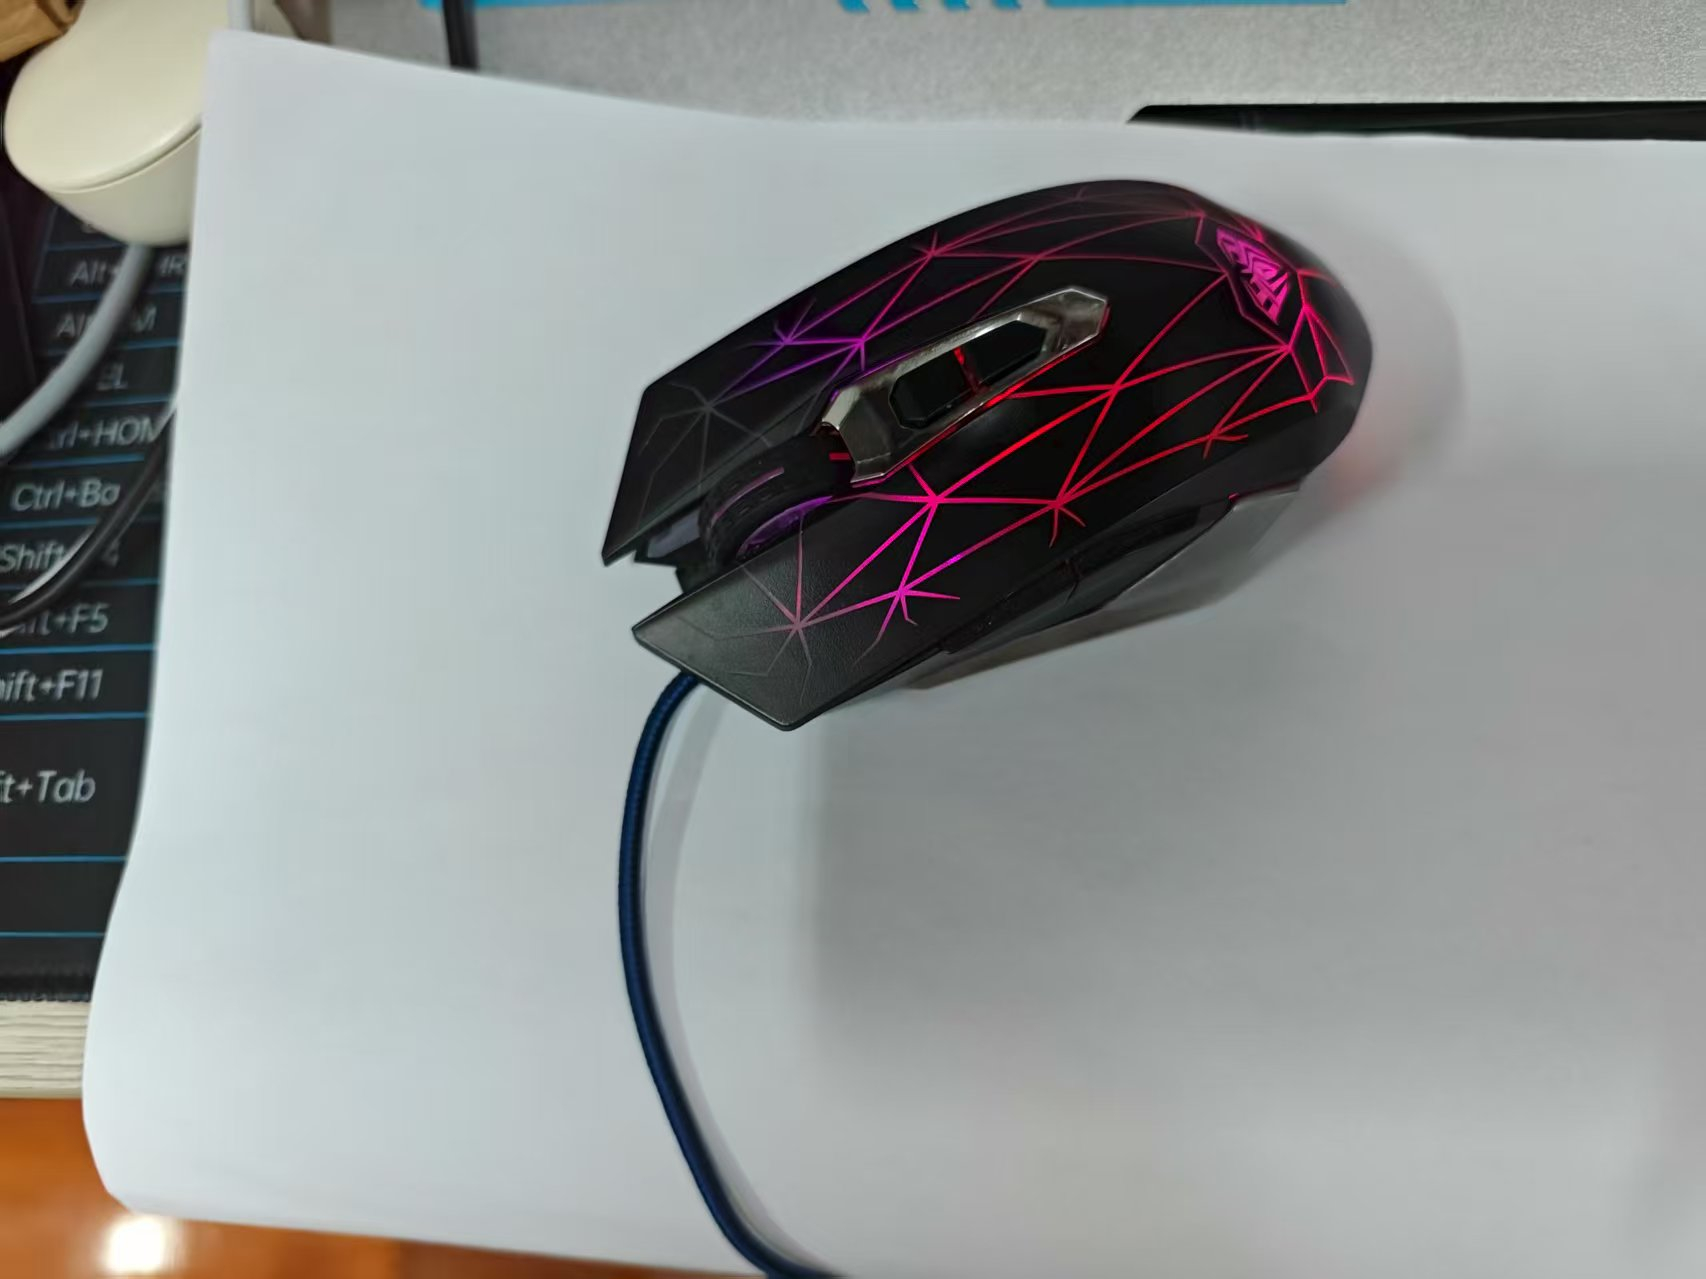mouse: (479, 165, 1432, 736)
